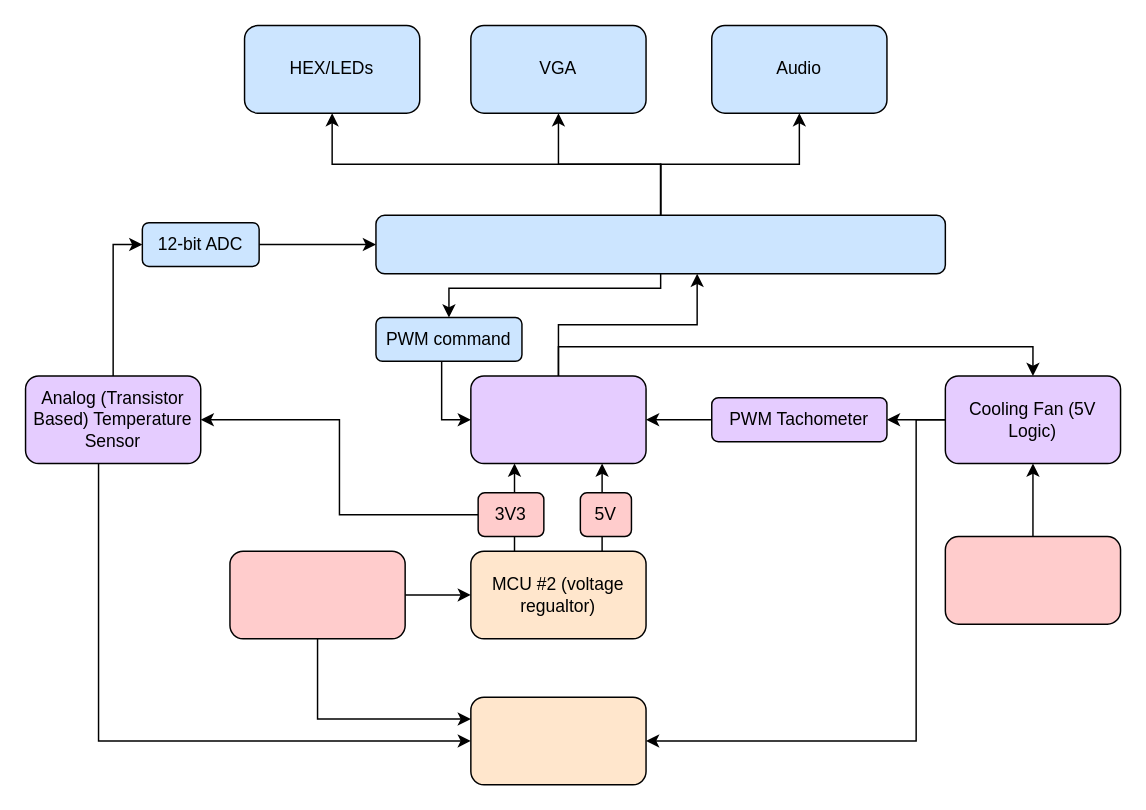
Image size: 1146x810. Some labels were removed from this diagram. Each missing label, with the box of its shape:
12V Power Supply: (944, 535, 1121, 624)
Bidirectional Level Shifter (5V/3V3): (469, 374, 646, 464)
DE1-SoC Processor: (374, 214, 945, 274)
MCU #1 (external debugging): (469, 696, 646, 785)
USB-C VCC: (228, 550, 405, 639)
